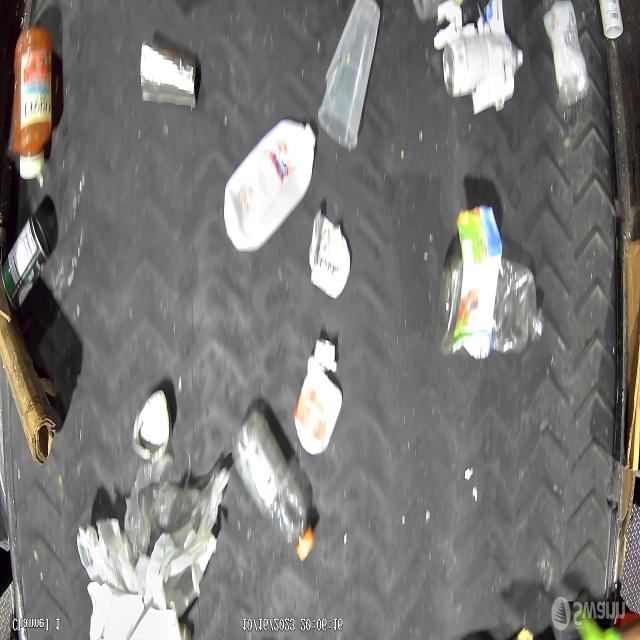can: (442, 33, 524, 99), (1, 216, 52, 310), (131, 388, 172, 464)
milk_jug: (224, 120, 318, 252)
plastic_bottle: (232, 407, 315, 561), (435, 255, 546, 361)
